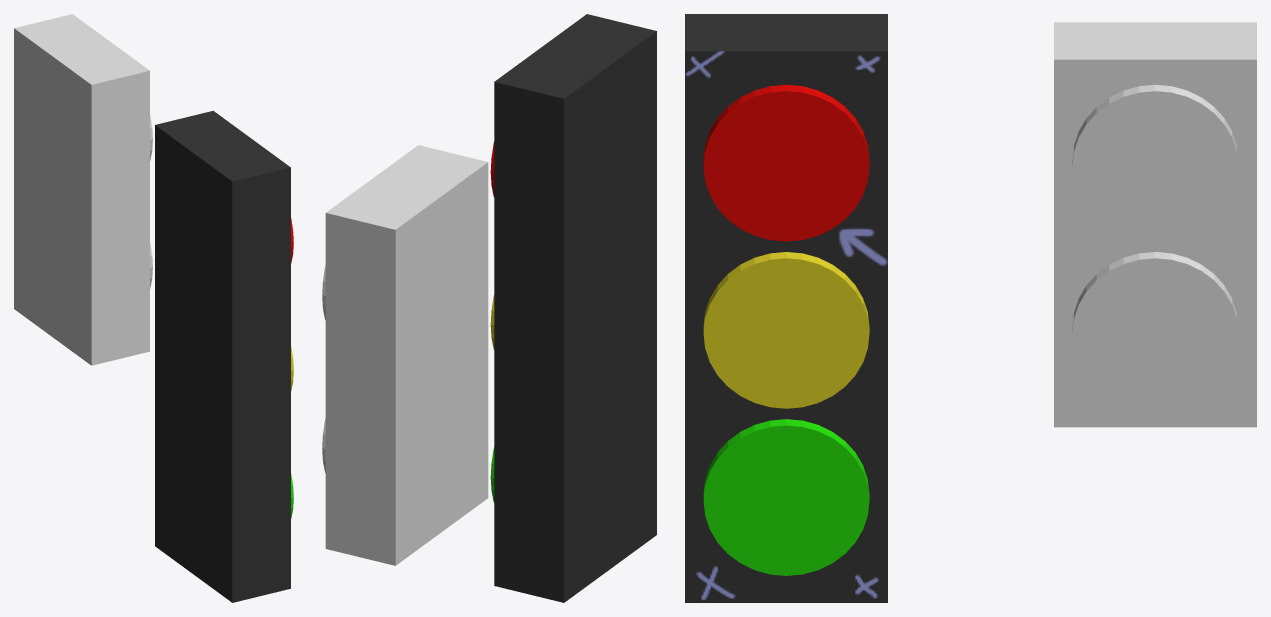
The model's file is TrafficLight_WithMaterial.glb.
3 views of the same model, side by side, from view 1: azimuth 30°, elevation 25°; view 2: azimuth 150°, elevation 25°; view 3: azimuth 270°, elevation 25° (orthographic). The views are drawn at different scales.
Parts seen in each view (by area): view 1: traffic_light_cars, traffic_light_peds; view 2: traffic_light_cars, traffic_light_peds; view 3: traffic_light_cars, traffic_light_peds, cars_green, peds_green, cars_yellow_1, peds_red, cars_red.
Boxes of the visible parts, bbox=[...] form: traffic_light_cars: bbox=[155, 110, 290, 602]; traffic_light_peds: bbox=[14, 14, 149, 365]; traffic_light_cars: bbox=[494, 14, 656, 602]; traffic_light_peds: bbox=[325, 145, 488, 565]; traffic_light_cars: bbox=[685, 14, 887, 602]; traffic_light_peds: bbox=[1054, 22, 1256, 427]; cars_green: bbox=[703, 419, 869, 575]; peds_green: bbox=[1072, 252, 1238, 408]; cars_yellow_1: bbox=[703, 252, 869, 408]; peds_red: bbox=[1072, 84, 1238, 241]; cars_red: bbox=[703, 84, 869, 241].
Size of the model in its own units: 1.12 by 6.6 by 6.2.
4 materials, 1 textured.
